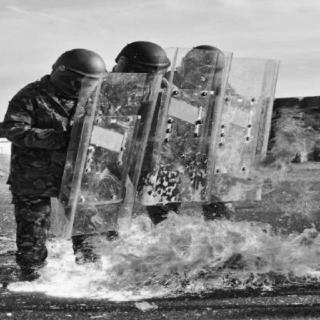Fire: (218, 101, 310, 196)
